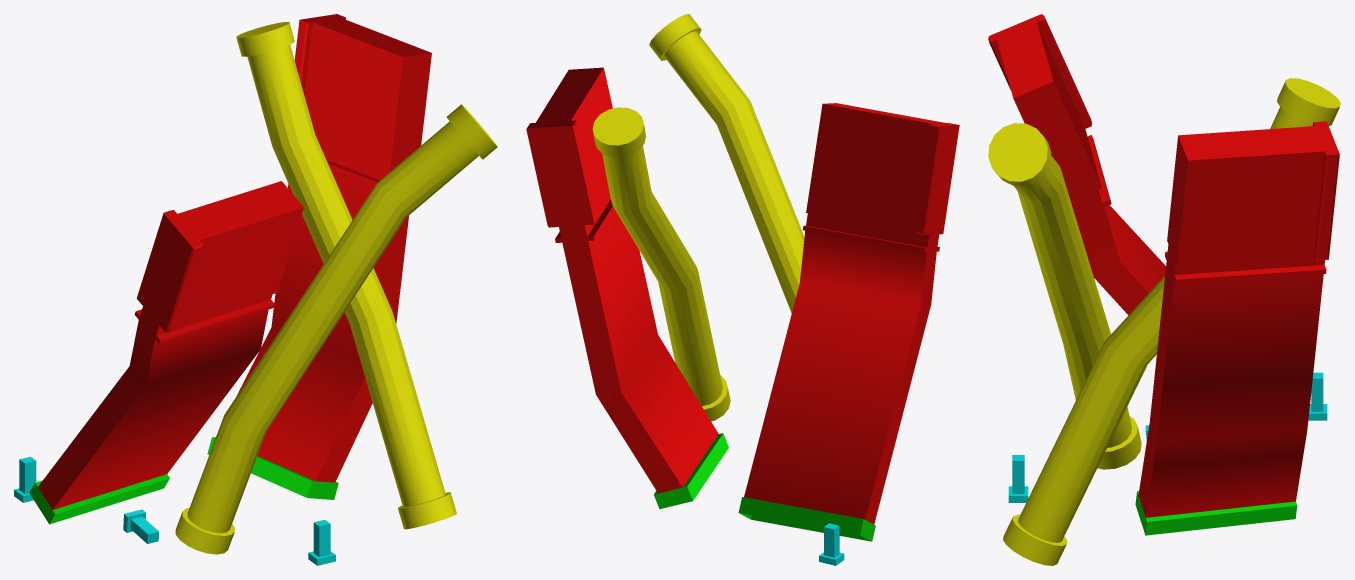
Rendered from SM_Debris.fbx.
3 views of the same model, side by side, from view 1: azimuth 30°, elevation 25°; view 2: azimuth 150°, elevation 25°; view 3: azimuth 270°, elevation 25° (orthographic). The views are drawn at different scales.
Parts seen in each view (by area): view 1: SM_debrit; view 2: SM_debrit; view 3: SM_debrit.
Part boxes in pixels (x1=…): SM_debrit: x1=14, y1=14, x2=497, y2=565; SM_debrit: x1=526, y1=14, x2=959, y2=565; SM_debrit: x1=988, y1=14, x2=1340, y2=565.
Bounding box in the file's own units: 157 × 177 × 123.
